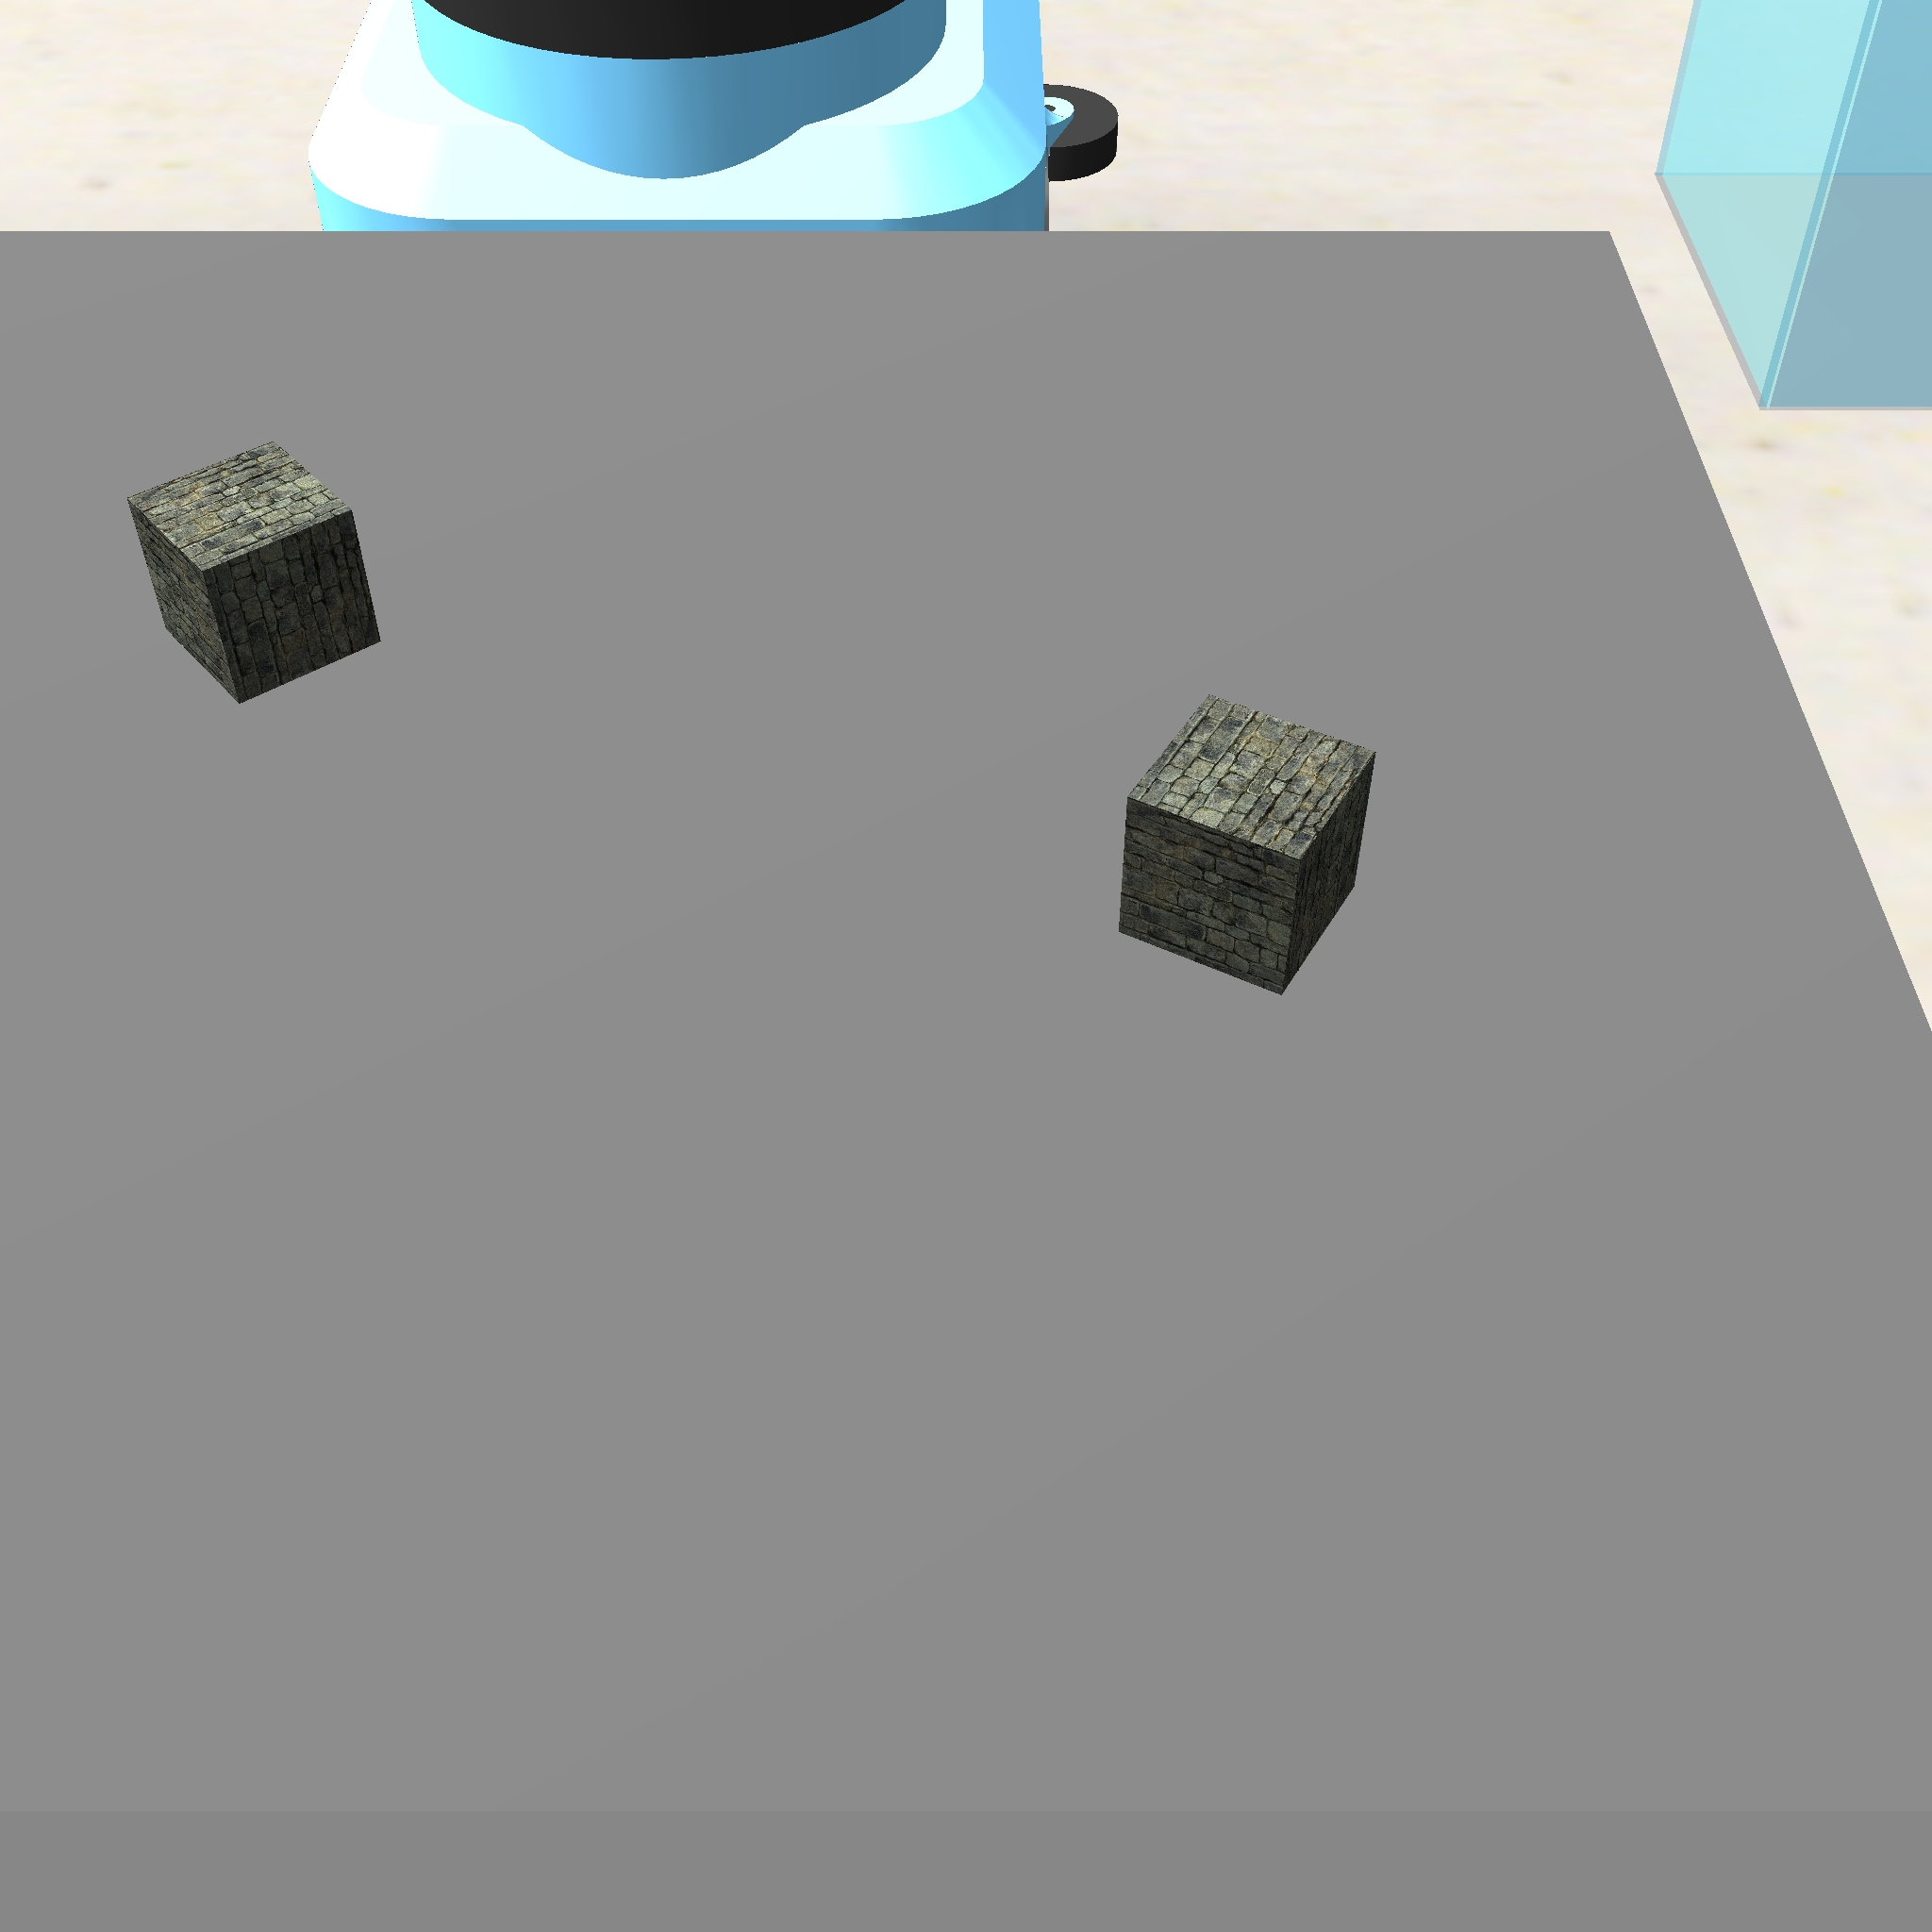cube: (1108, 685, 1382, 1003), (120, 433, 389, 711)
